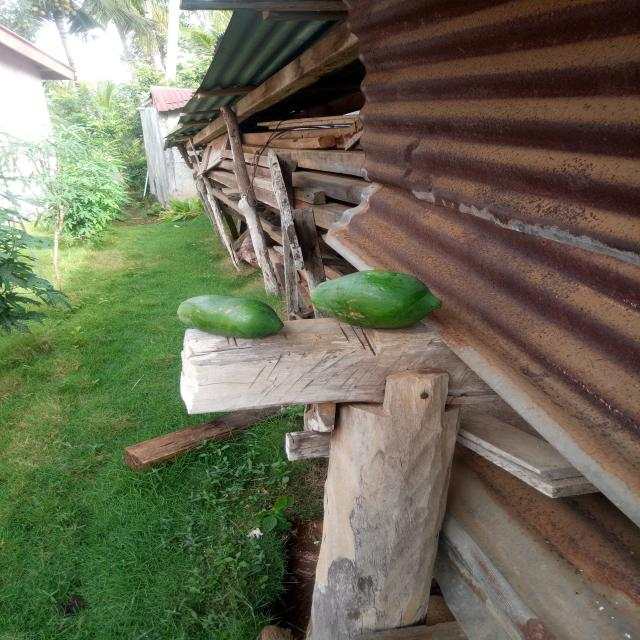Pepaya unrippen: (299, 268, 447, 331), (168, 291, 281, 348)
